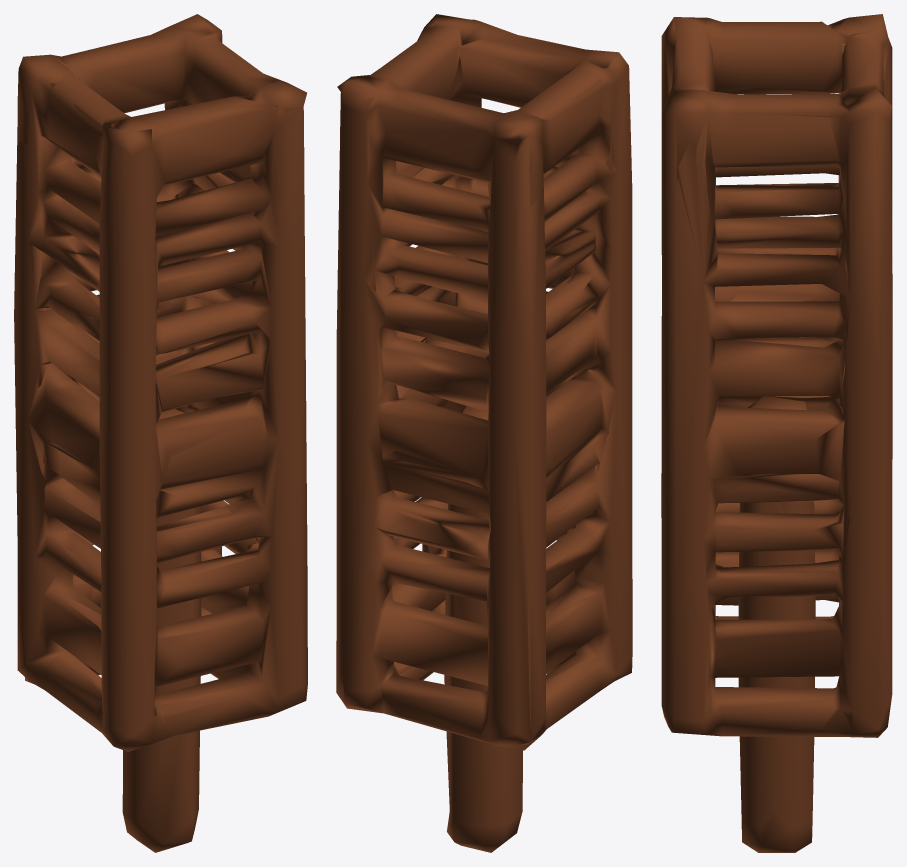
Rendered from gen3d-xylophone-lod0.glb.
3 renders of one model, left to right at view 1: azimuth 30°, elevation 25°; view 2: azimuth 150°, elevation 25°; view 3: azimuth 270°, elevation 25°, orthographic. The views are drawn at different scales.
Parts seen in each view (by area): view 1: part_0; view 2: part_0; view 3: part_0.
Part boxes in pixels (bbox=[...]): part_0: bbox=[14, 14, 307, 852]; part_0: bbox=[336, 14, 632, 852]; part_0: bbox=[661, 14, 892, 852].
Bounding box in the file's own units: 0.2654 × 0.9988 × 0.2647.
